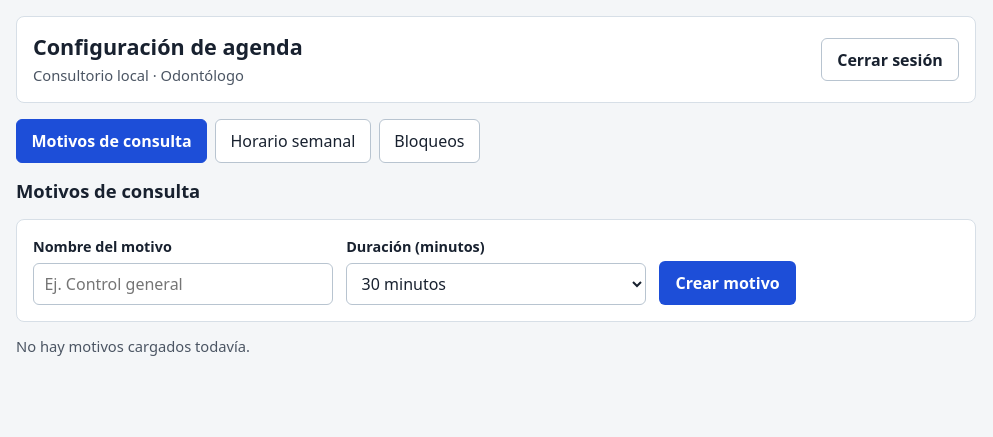
it: App - flujo de sesion › informa 409 AGENDA_BUSY y 500 TECHNICAL_FAILURE sin asumir guardado ni reintentar automaticamente
The image size is (993, 437).
Expected: the text "No hay motivos cargados todavía." is shown, [16,336,250,356]
Type "Limpieza" into the field labelled "Nombre del motivo". click: (183, 284)
box: [33,263,333,305]
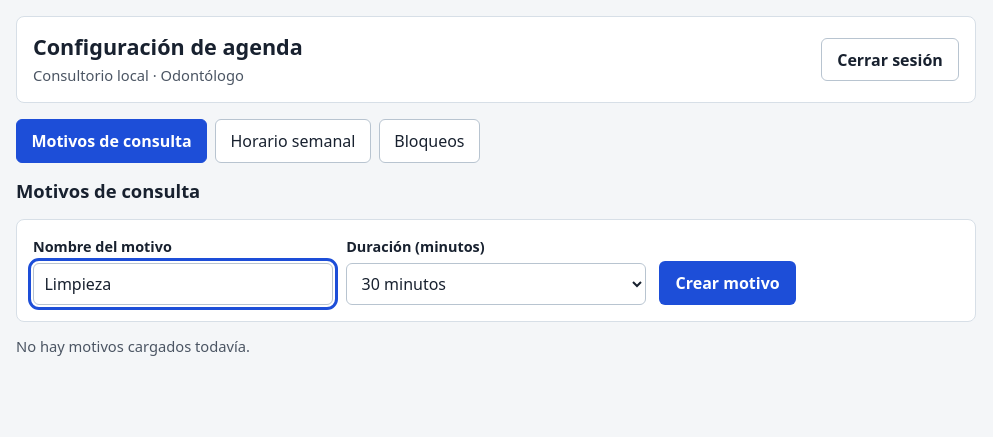
Click the button "Crear motivo". click: (728, 283)
box: [659,261,796,305]
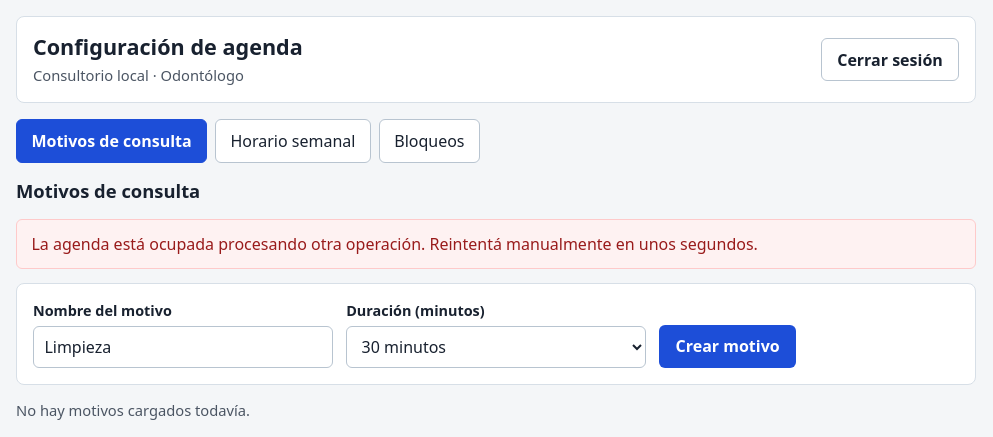
Result: the message shows "Reintentá manualmente" at [31,233,758,255]
Click the button "Crear motivo". click: (728, 346)
box: [659,325,796,368]
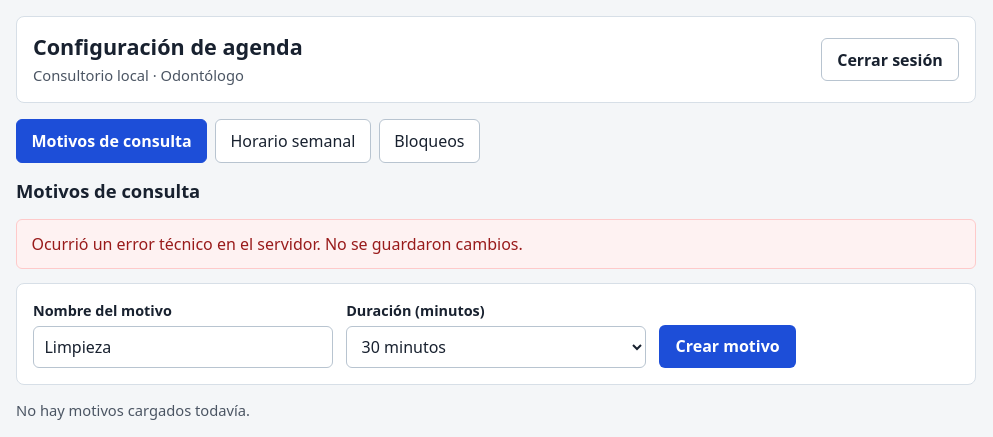
Result: the message shows "No se guardaron cambios" at [31,233,523,255]
